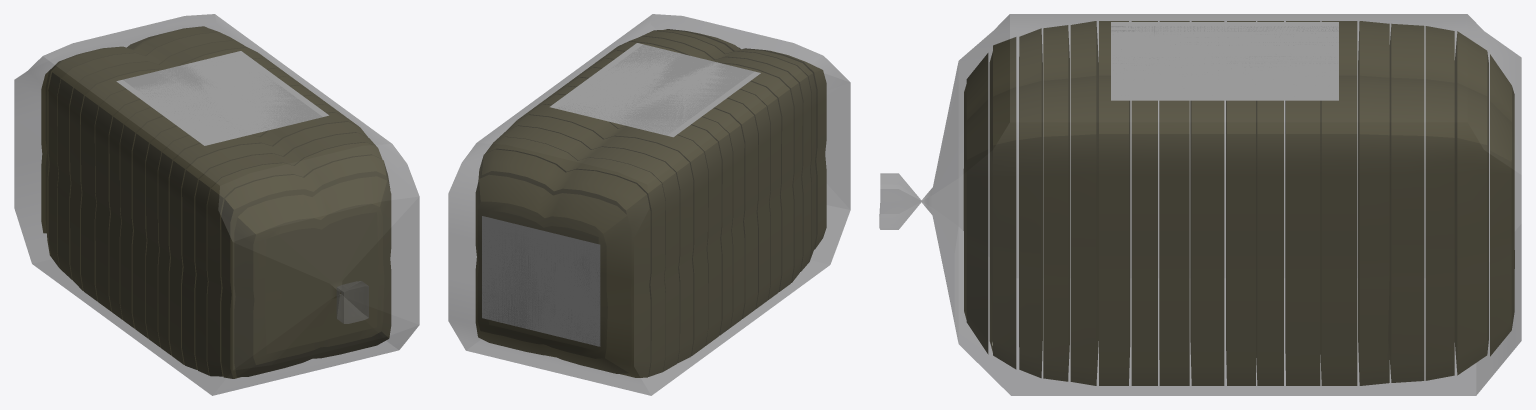
The model's file is bread.fbx.
The picture shows the model from 3 angles, left to right: view 1: azimuth 30°, elevation 25°; view 2: azimuth 150°, elevation 25°; view 3: azimuth 270°, elevation 25°; orthographic projection. The views are drawn at different scales.
Parts seen in each view (by area): view 1: new_bread; view 2: new_bread; view 3: new_bread.
Boxes of the visible parts, left/top/right/bottom form: new_bread: left=14, top=14, right=419, bottom=395; new_bread: left=448, top=14, right=850, bottom=395; new_bread: left=879, top=14, right=1521, bottom=395.
Bounding box in the file's own units: 0.9524 × 1.03 × 2.17.
